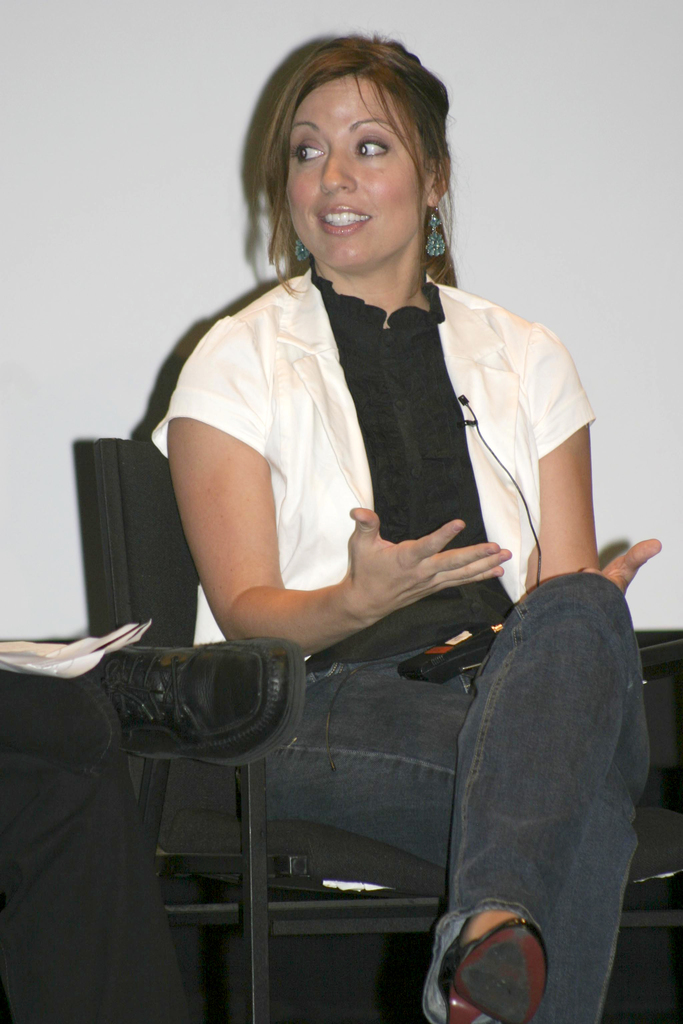Footwear: (422, 893, 562, 1024)
